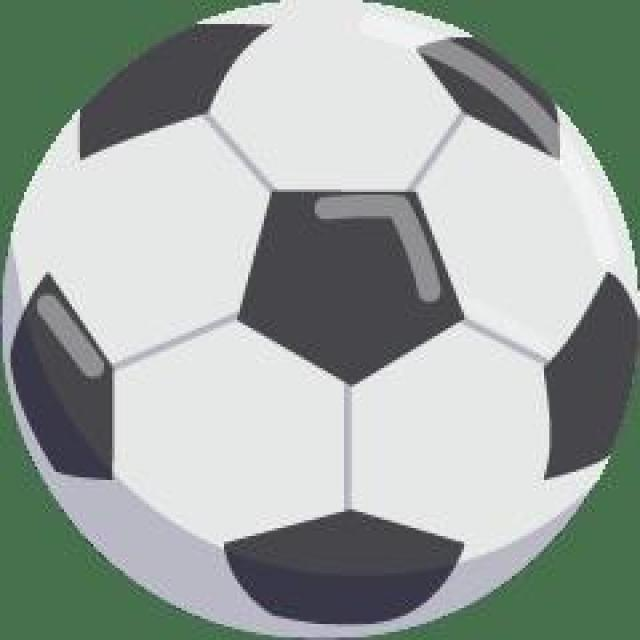Soccer Ball: (5, 0, 634, 637)
